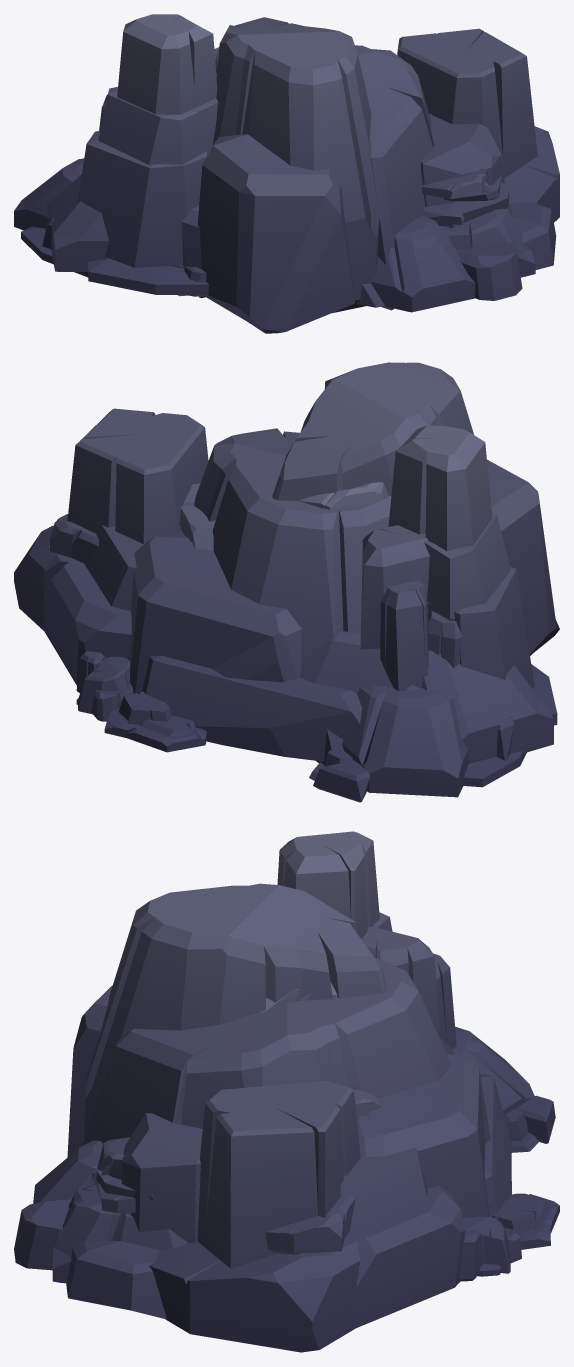
File: Stage3_Black rock.fbx
3 renders of one model, top to bottom at view 1: azimuth 30°, elevation 25°; view 2: azimuth 150°, elevation 25°; view 3: azimuth 270°, elevation 25°, orthographic. The views are drawn at different scales.
Parts seen in each view (by area): view 1: Cube.009, Cube.015, Cube.005; view 2: Cube.009, Cube.015, Cube.005; view 3: Cube.009, Cube.015, Cube.005.
Boxes of the visible parts, left/top/right/bottom form: Cube.009: left=14, top=14, right=559, bottom=312; Cube.015: left=197, top=17, right=504, bottom=333; Cube.005: left=182, top=49, right=218, bottom=268; Cube.009: left=14, top=408, right=557, bottom=802; Cube.015: left=129, top=362, right=559, bottom=694; Cube.005: left=179, top=482, right=387, bottom=550; Cube.009: left=14, top=831, right=559, bottom=1352; Cube.015: left=67, top=883, right=490, bottom=1242; Cube.005: left=259, top=958, right=382, bottom=1119.
Size of the model in its own units: 25.98 by 12.83 by 21.08.
